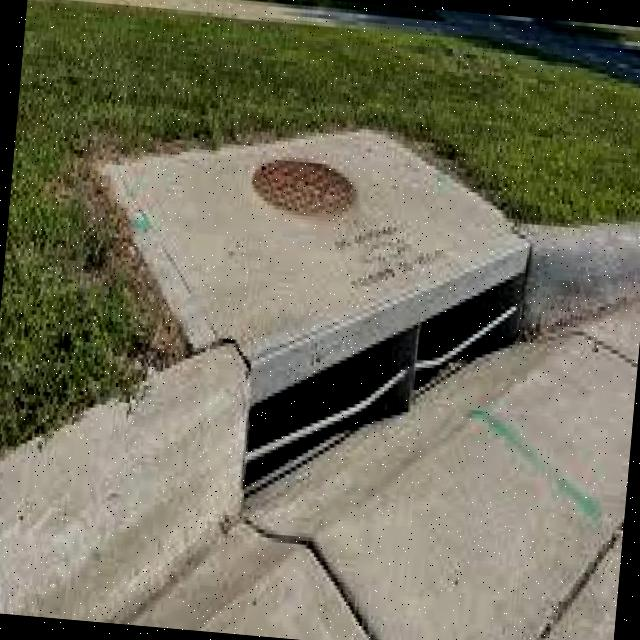curb: (1, 297, 241, 625), (241, 234, 457, 519), (465, 193, 640, 373)
